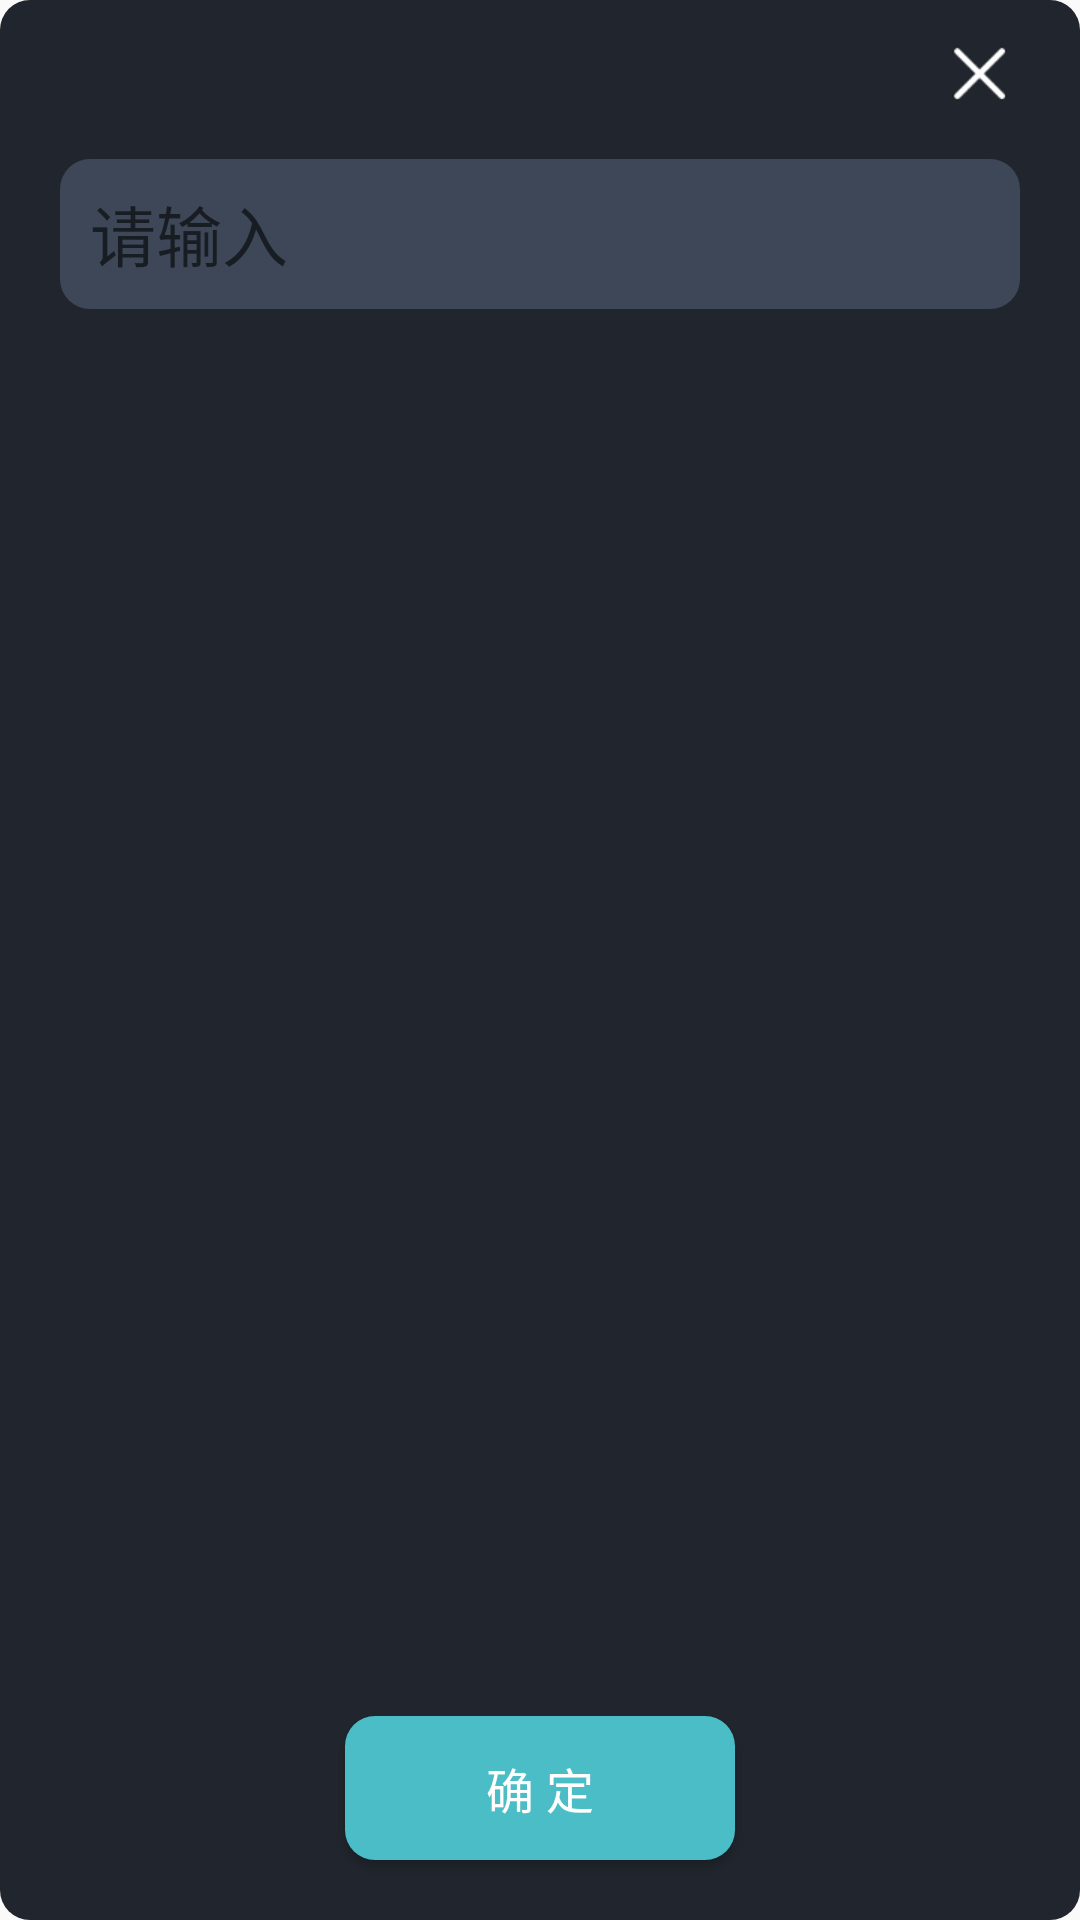

Icon click points for this 1080*1920 phone screenshot, format (x=x, y=y):
关闭: (x=980, y=74)
